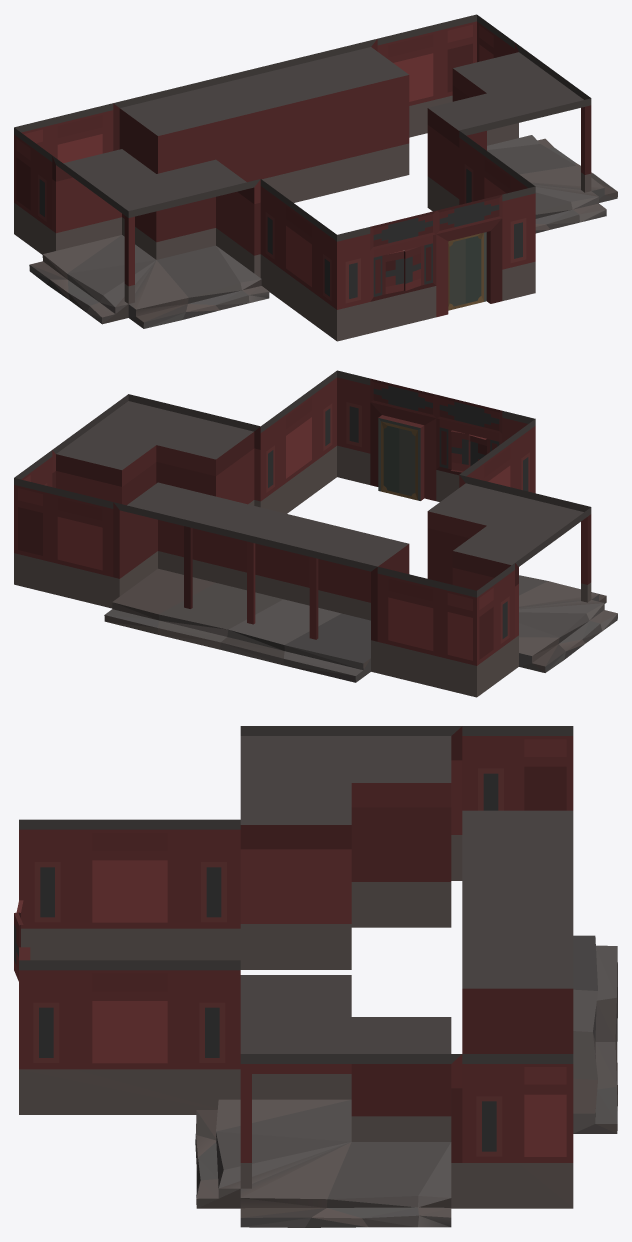
File: BuildingA-T_BLOD1.fbx
3 renders of one model, top to bottom at view 1: azimuth 30°, elevation 25°; view 2: azimuth 150°, elevation 25°; view 3: azimuth 270°, elevation 25°, orthographic. The views are drawn at different scales.
Visible parts, largest first — view 1: BuildingA-T_BLOD1; view 2: BuildingA-T_BLOD1; view 3: BuildingA-T_BLOD1.
Boxes of the visible parts, x1,y1,x2,y2 form: BuildingA-T_BLOD1: [14, 14, 617, 341]; BuildingA-T_BLOD1: [14, 370, 617, 697]; BuildingA-T_BLOD1: [14, 726, 617, 1227].
Bounding box in the file's own units: 1955 × 386 × 1362.
